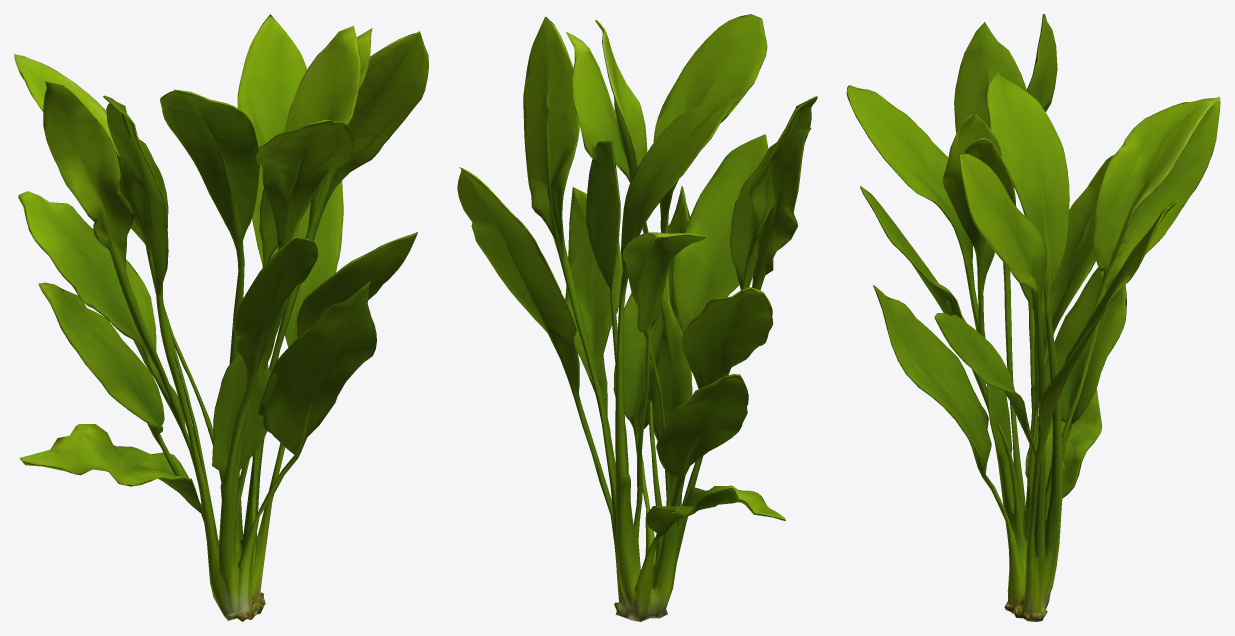
Rendered from plant02.glb.
3 views of the same model, side by side, from view 1: azimuth 30°, elevation 25°; view 2: azimuth 150°, elevation 25°; view 3: azimuth 270°, elevation 25° (orthographic). The views are drawn at different scales.
Parts seen in each view (by area): view 1: tripo_node_4678b92e-d62e-4bd6-a3da-f1fe82ba328e; view 2: tripo_node_4678b92e-d62e-4bd6-a3da-f1fe82ba328e; view 3: tripo_node_4678b92e-d62e-4bd6-a3da-f1fe82ba328e.
Boxes of the visible parts, bbox=[...] form: tripo_node_4678b92e-d62e-4bd6-a3da-f1fe82ba328e: bbox=[14, 14, 428, 621]; tripo_node_4678b92e-d62e-4bd6-a3da-f1fe82ba328e: bbox=[457, 14, 817, 621]; tripo_node_4678b92e-d62e-4bd6-a3da-f1fe82ba328e: bbox=[846, 14, 1220, 621].
Bounding box in the file's own units: 0.6074 × 1 × 0.6347.
1 material, 1 textured.
